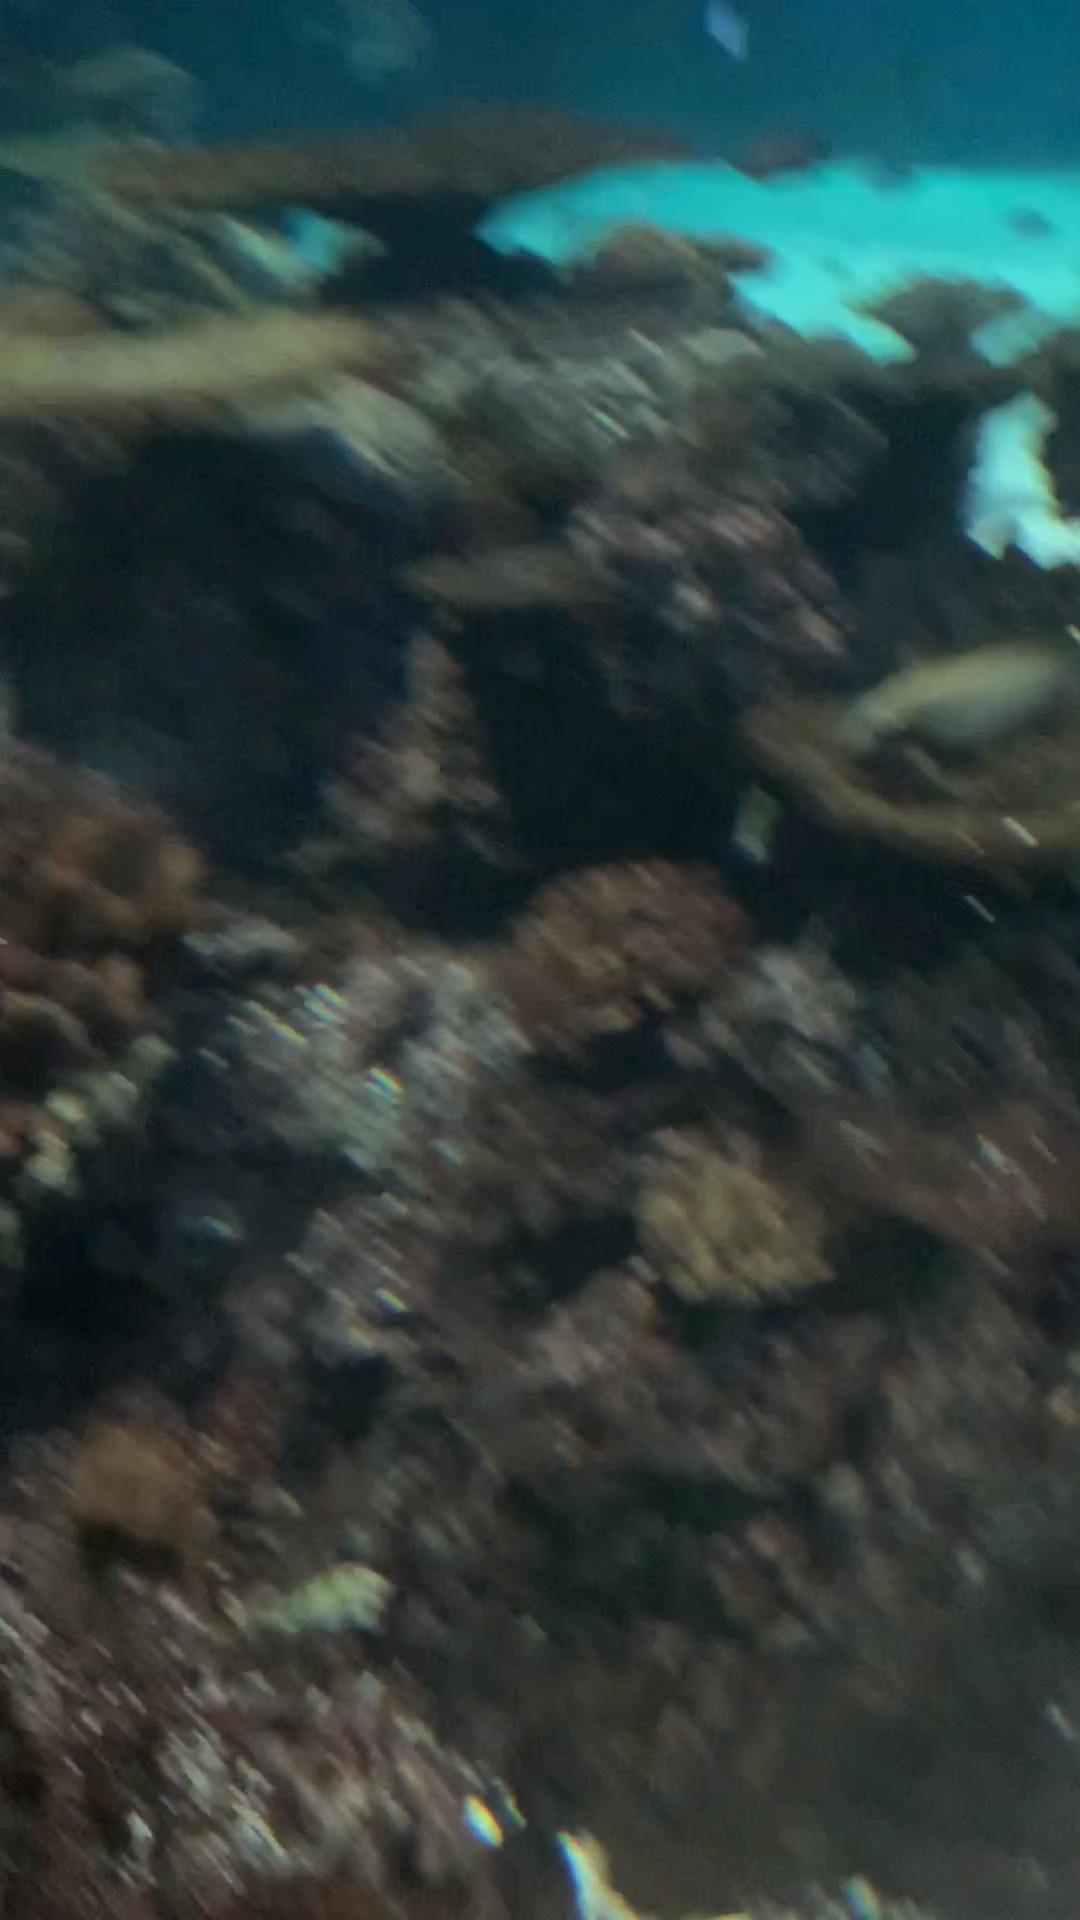fish: (833, 626, 1080, 789)
